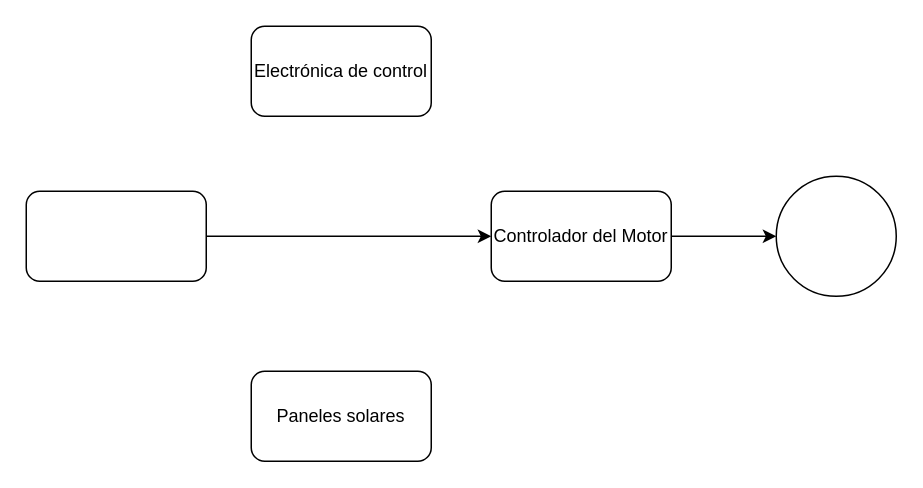
The diagram is 923 pixels wide and 488 high, and some of its shapes have lost their labels. The shapes that lost their labels are listed below. From the top down, each one's box as (x1, y1, x2, y2) in pixels, then its label:
(25, 190, 206, 281): Banco de baterías
(775, 175, 896, 296): Motor (es)
